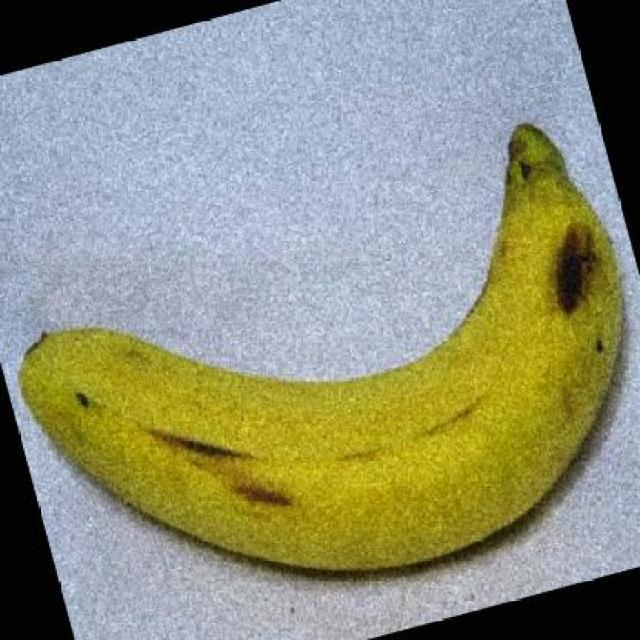ripe: (3, 122, 640, 597)
